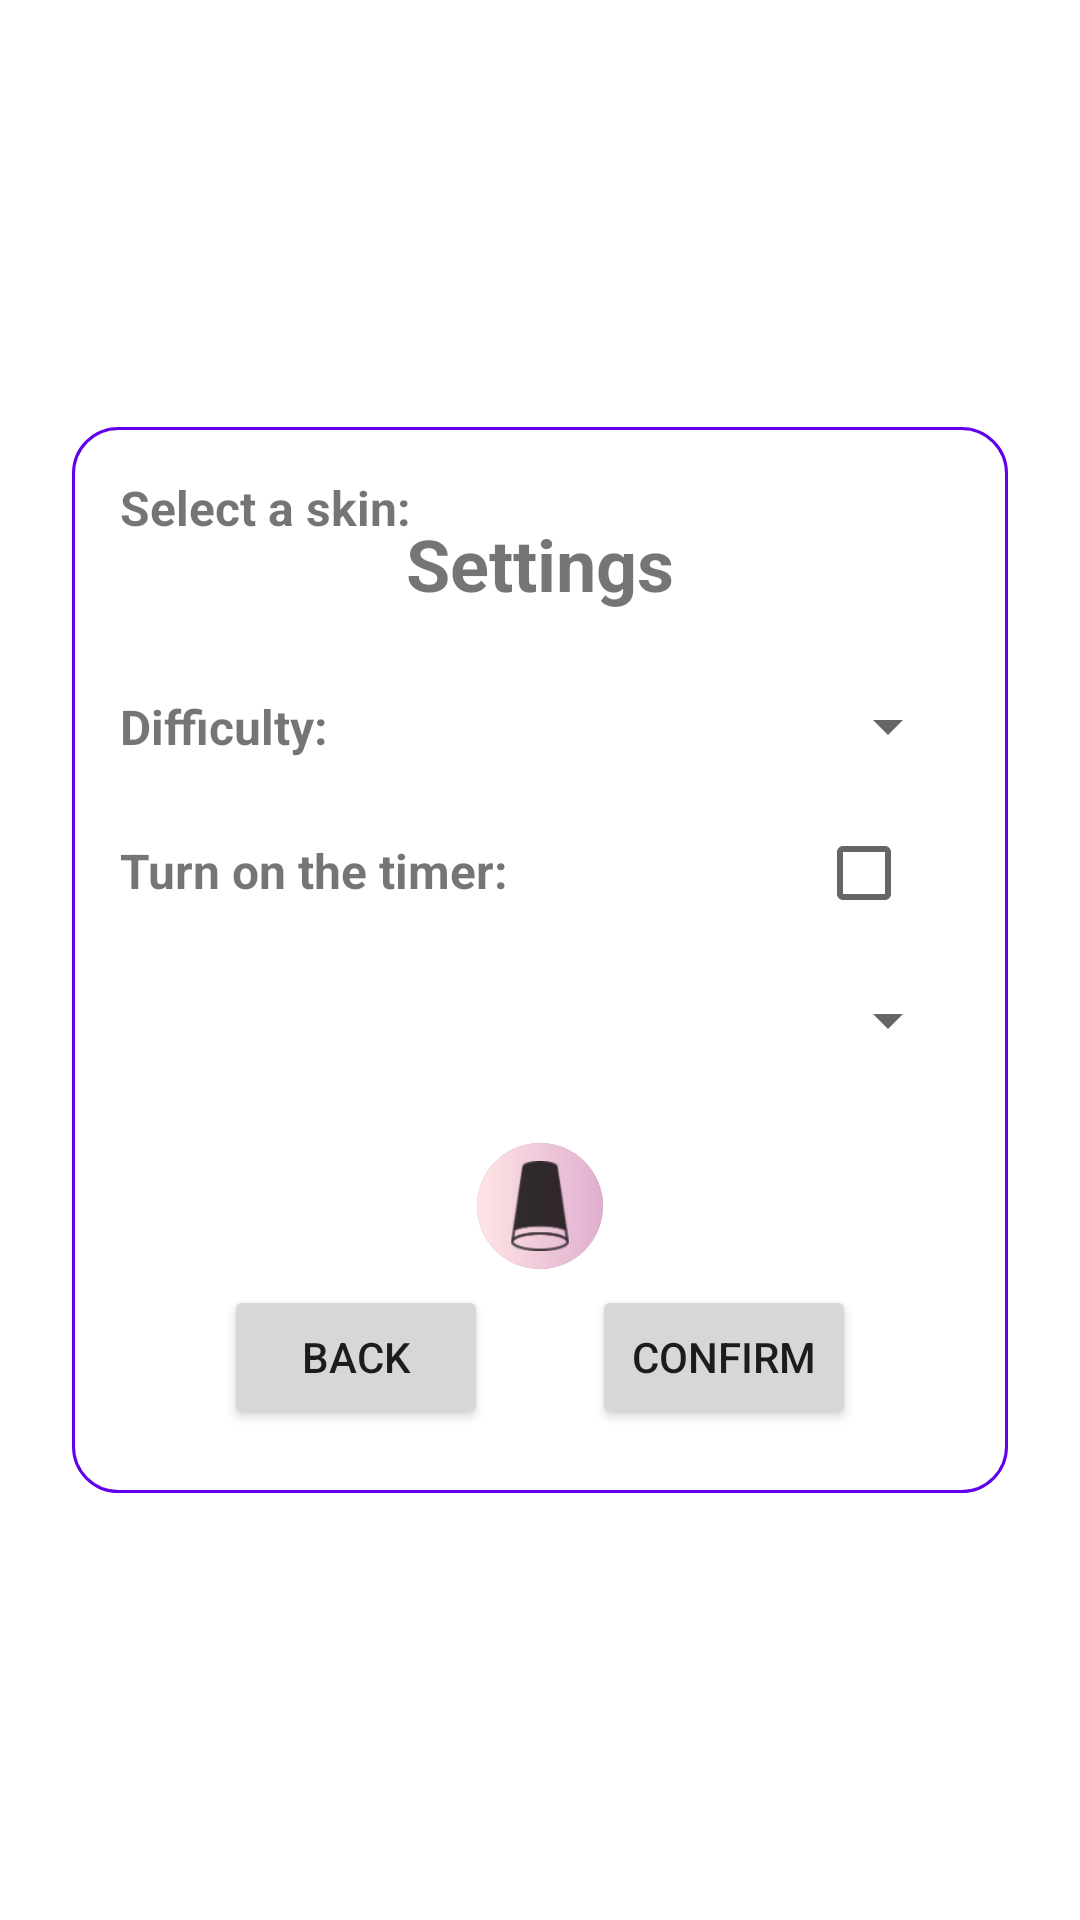

Icons on this 1080×1920 Android screen, each with the point to tap as point (x, y):
glass: point (540, 1206)
